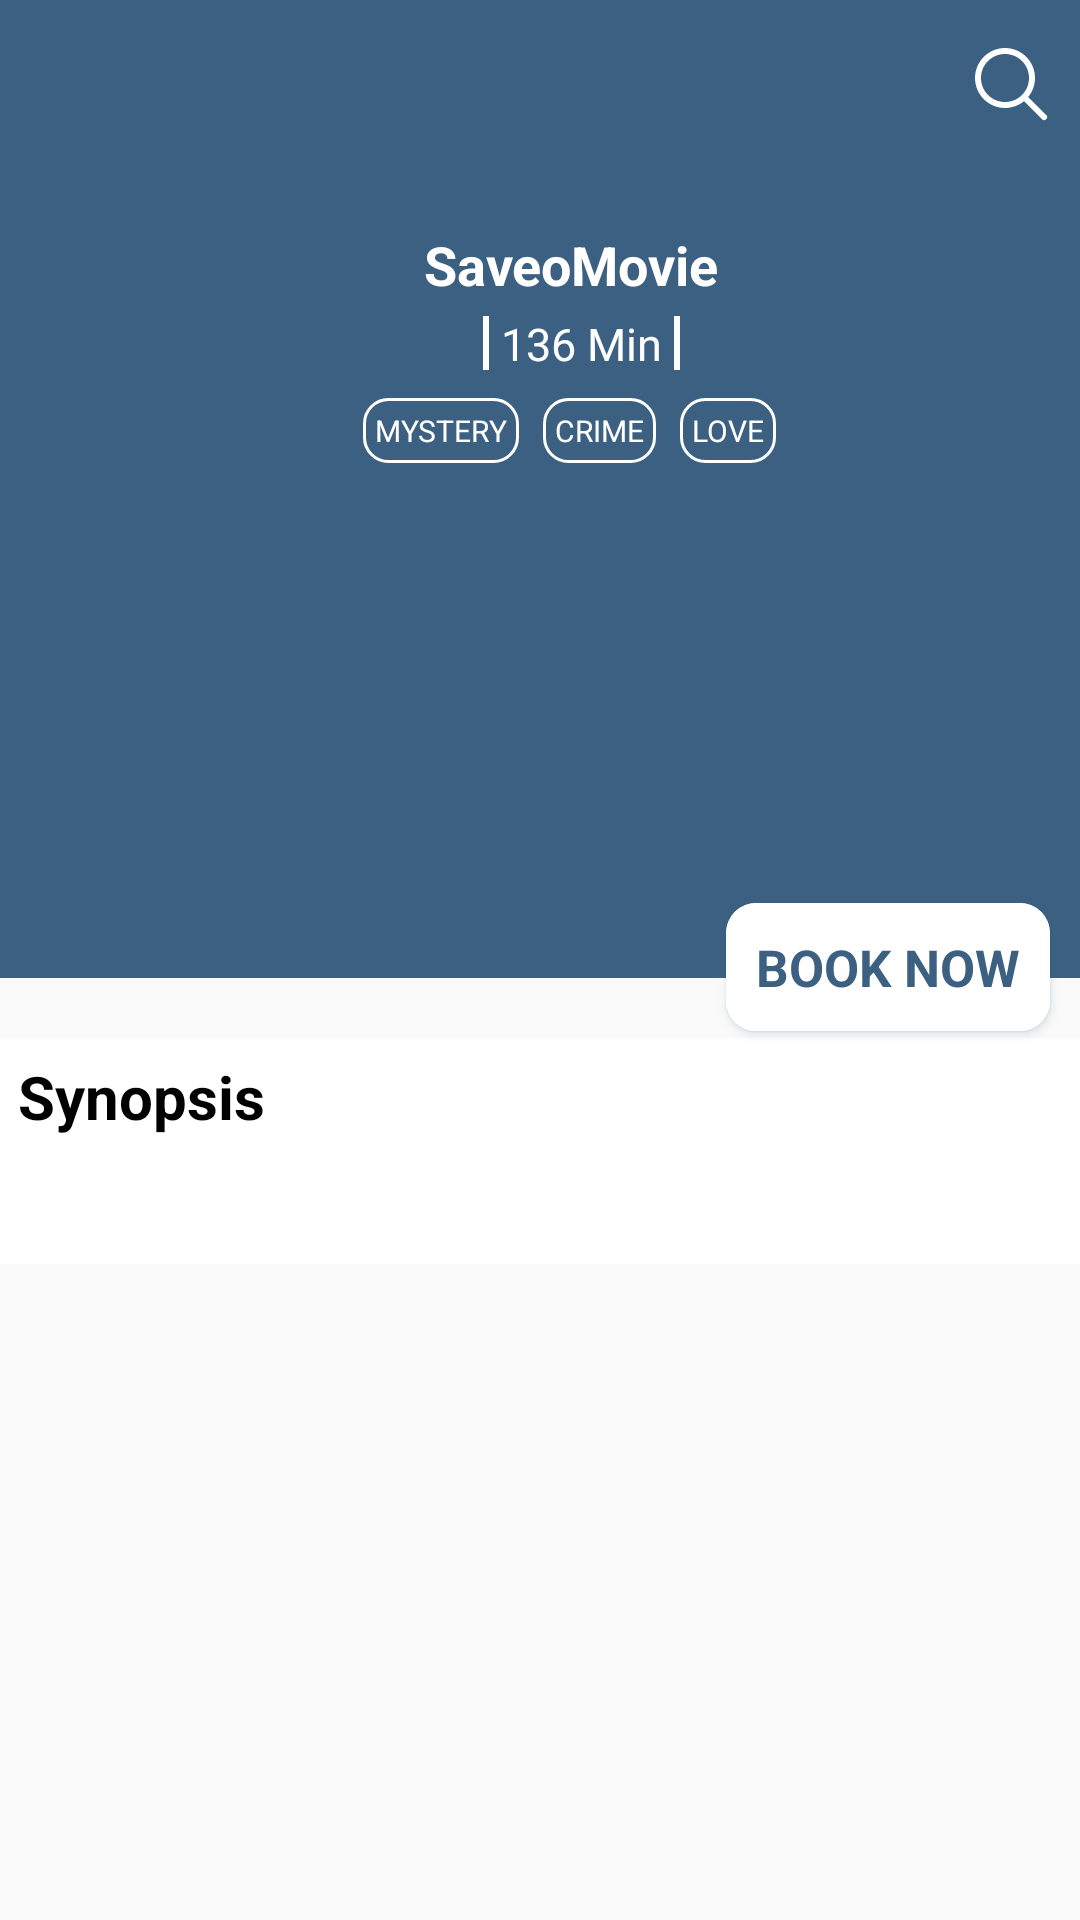

Screen size 1080w x 1920h. Icon name, then its box in pixels as rect(x1, y1, x2, y2):
search: rect(975, 48, 1047, 120)
